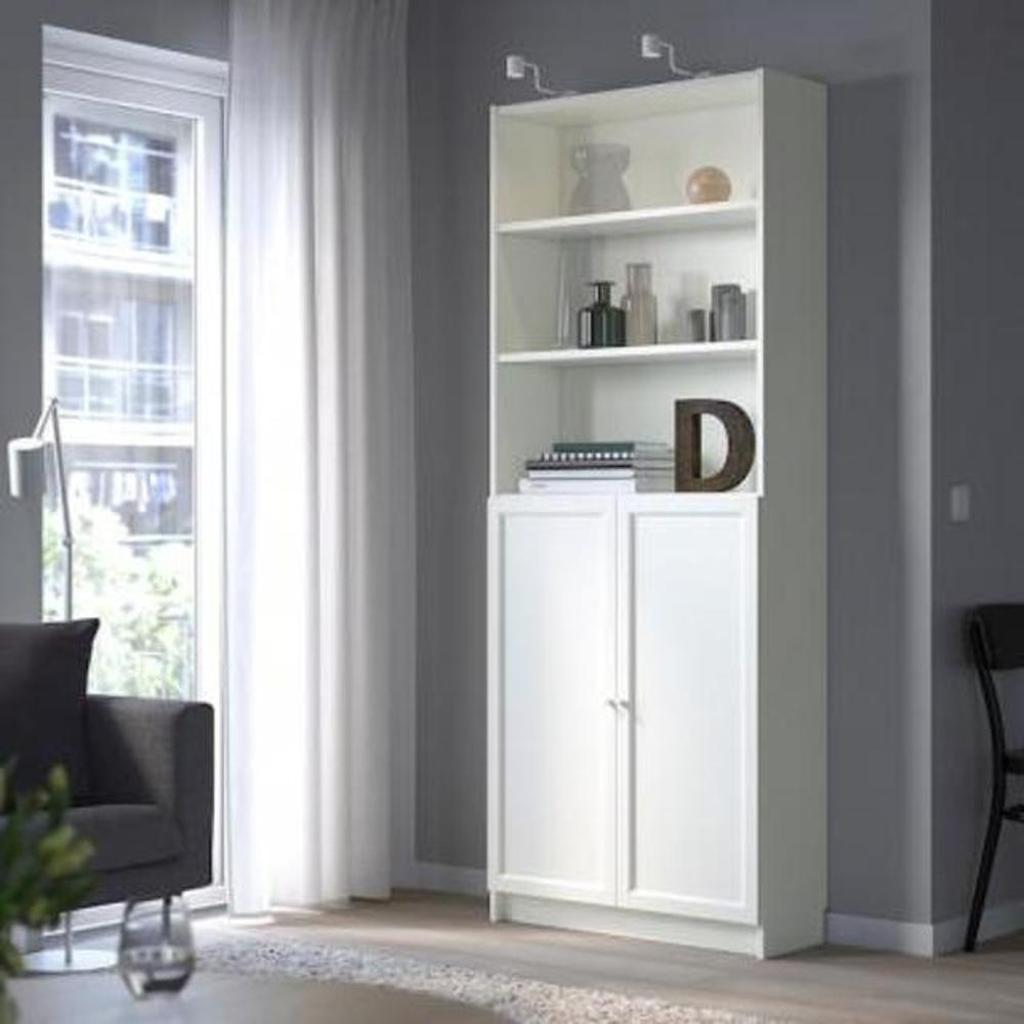lamp: (480, 66, 834, 965)
